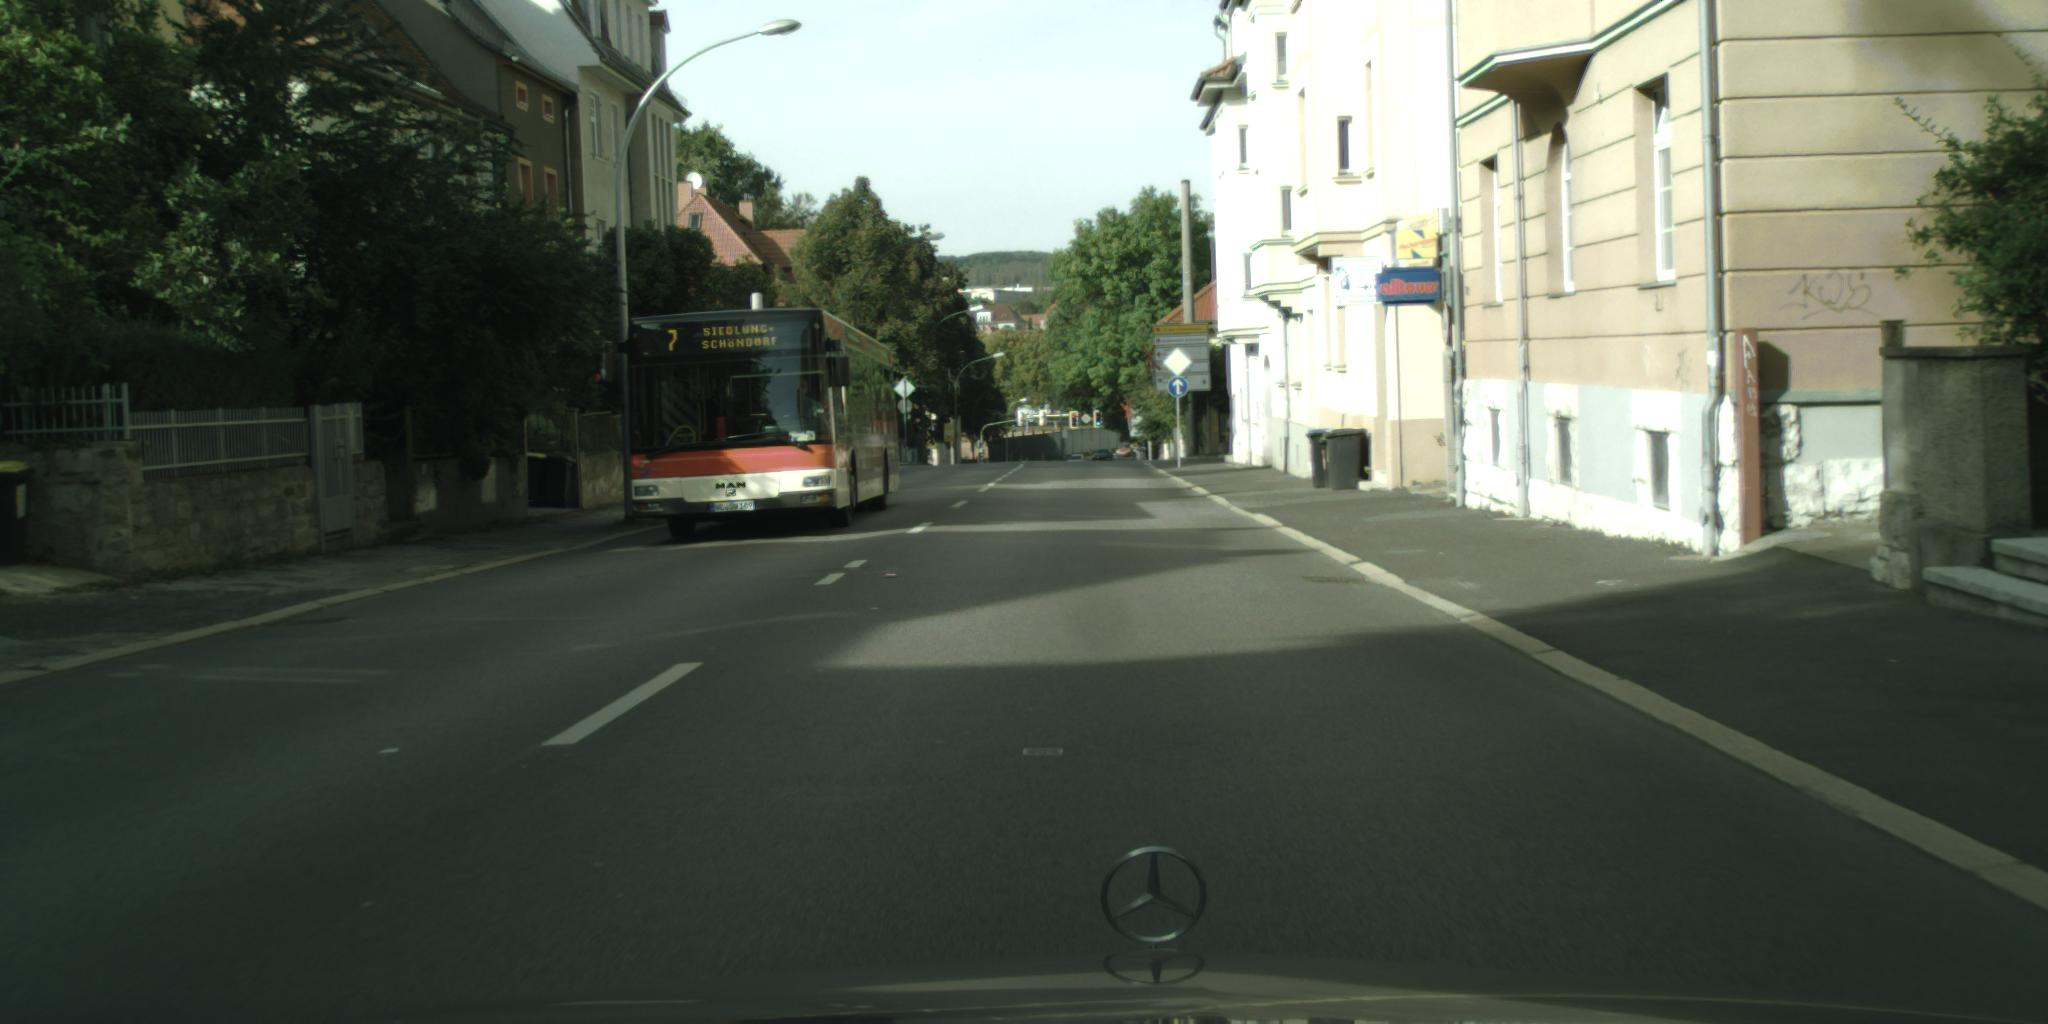bus: (601, 295, 903, 545)
car: (1113, 444, 1155, 466), (1066, 453, 1088, 473), (1091, 451, 1114, 468)
